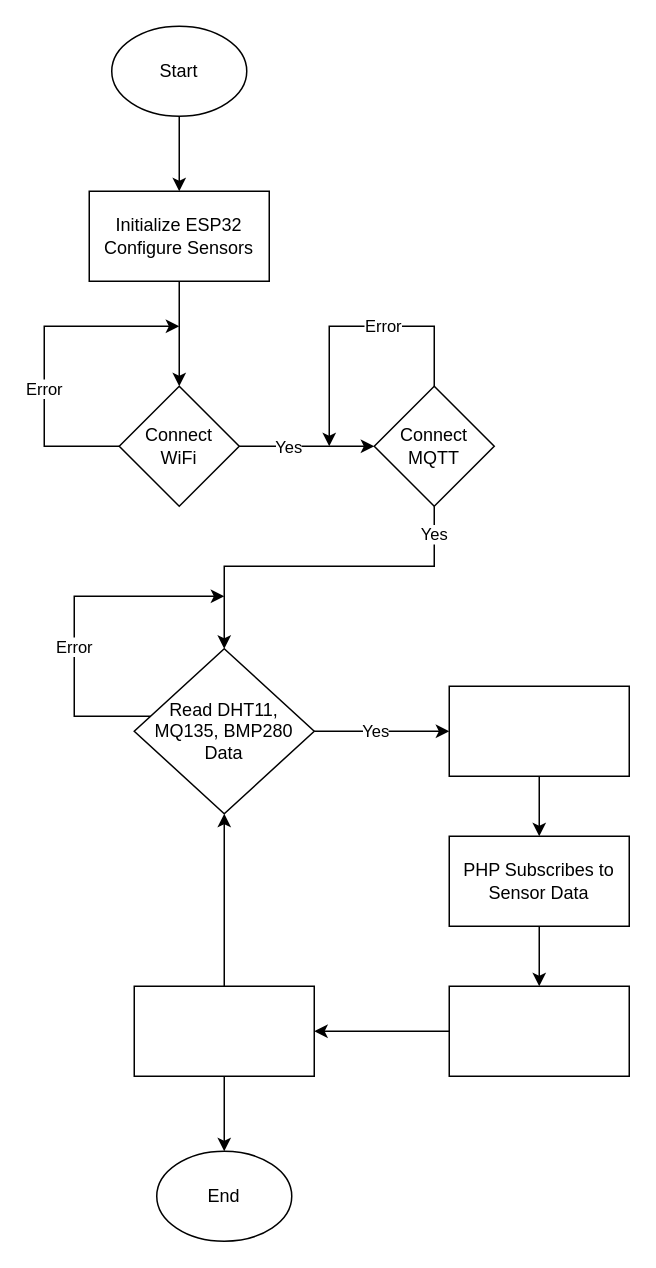
Image size: 656x1268. Some labels were removed from this diagram. Here are the shapes that lost their labels. From the top down, the centre of each, then its label:
At [538,730]: "Publish Data to MQTT Topic".
At [223,1030]: "Display Data on Webpage with PowerBI".
At [538,1030]: "Store Data in MySQL Database".
